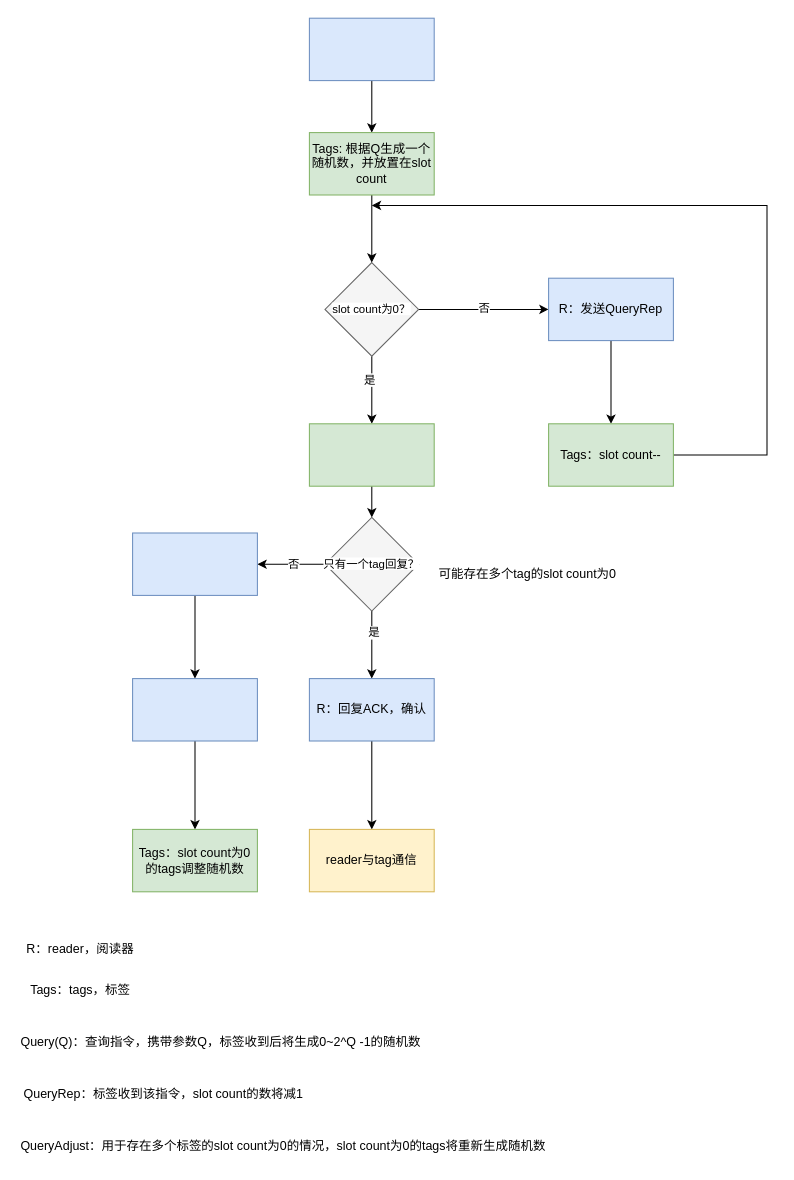
Image size: 794x1180. Some labels were removed from this diagram. The shapes that lost their labels are listed below. From the top down, each one's centre as x and y in pixels, then its label:
At (x=371, y=49): "R: 发送Query(Q)".
At (x=371, y=454): "Tag：回复RN16".
At (x=194, y=563): "R：不做任何回复".
At (x=194, y=709): "R：QueryAdjust".
